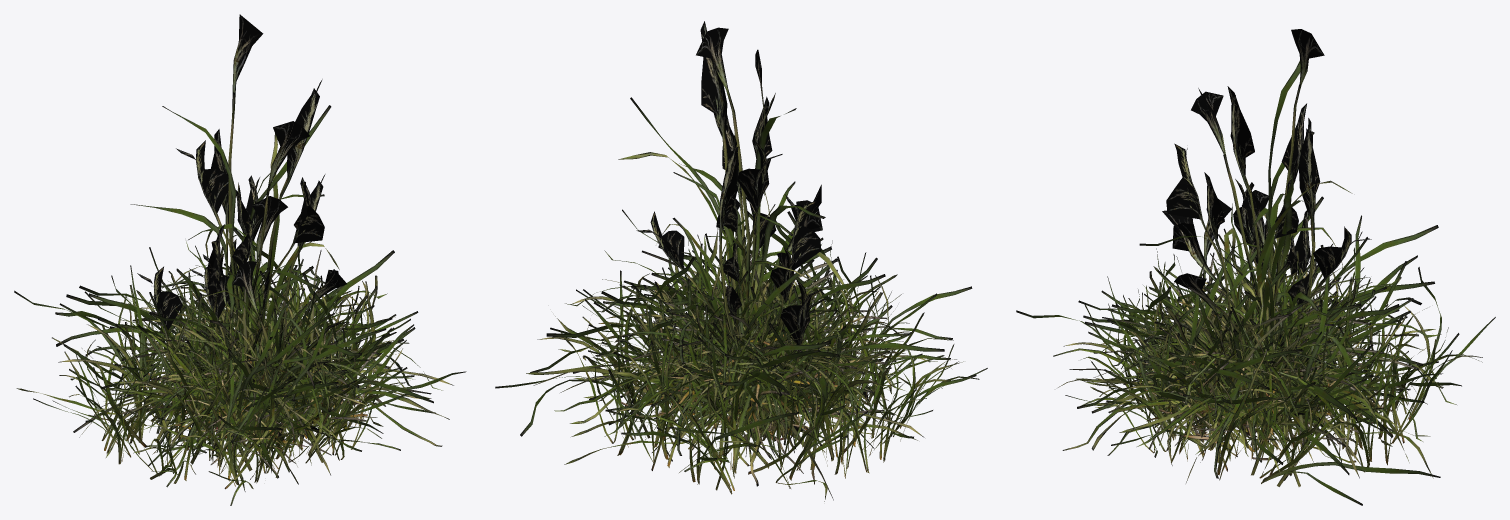
Rendered from grass.glb.
3 renders of one model, left to right at view 1: azimuth 30°, elevation 25°; view 2: azimuth 150°, elevation 25°; view 3: azimuth 270°, elevation 25°, orthographic. The views are drawn at different scales.
Parts seen in each view (by area): view 1: grass_medium_01_large_a_LOD0, grass_medium_01_large_c_LOD0, grass_medium_01_large_b_LOD0, grass_medium_01_mid_a_LOD0, grass_medium_01_tall_b_LOD0, grass_medium_01_tall_a_LOD0, grass_medium_01_tall_c_LOD0, grass_medium_01_mid_c_LOD0, grass_medium_01_mid_b_LOD0, grass_medium_01_small_a_LOD0, grass_medium_01_small_b_LOD0; view 2: grass_medium_01_large_a_LOD0, grass_medium_01_large_b_LOD0, grass_medium_01_large_c_LOD0, grass_medium_01_tall_a_LOD0, grass_medium_01_mid_a_LOD0, grass_medium_01_tall_b_LOD0, grass_medium_01_tall_c_LOD0, grass_medium_01_mid_b_LOD0, grass_medium_01_mid_c_LOD0, grass_medium_01_small_a_LOD0; view 3: grass_medium_01_large_a_LOD0, grass_medium_01_large_c_LOD0, grass_medium_01_large_b_LOD0, grass_medium_01_mid_a_LOD0, grass_medium_01_tall_b_LOD0, grass_medium_01_tall_a_LOD0, grass_medium_01_tall_c_LOD0, grass_medium_01_mid_c_LOD0, grass_medium_01_mid_b_LOD0, grass_medium_01_small_b_LOD0, grass_medium_01_small_a_LOD0.
Part boxes in pixels (x1,y1,x2,y2): grass_medium_01_large_a_LOD0: [14, 228, 415, 505]; grass_medium_01_large_c_LOD0: [89, 255, 466, 478]; grass_medium_01_large_b_LOD0: [56, 235, 453, 475]; grass_medium_01_mid_a_LOD0: [73, 174, 431, 468]; grass_medium_01_tall_b_LOD0: [171, 79, 339, 425]; grass_medium_01_tall_a_LOD0: [130, 14, 331, 343]; grass_medium_01_tall_c_LOD0: [137, 129, 345, 432]; grass_medium_01_mid_c_LOD0: [147, 268, 390, 472]; grass_medium_01_mid_b_LOD0: [89, 216, 335, 484]; grass_medium_01_small_a_LOD0: [139, 273, 357, 491]; grass_medium_01_small_b_LOD0: [140, 307, 377, 472]; grass_medium_01_large_a_LOD0: [495, 209, 987, 501]; grass_medium_01_large_b_LOD0: [526, 204, 929, 461]; grass_medium_01_large_c_LOD0: [530, 211, 952, 473]; grass_medium_01_tall_a_LOD0: [628, 27, 825, 388]; grass_medium_01_mid_a_LOD0: [573, 115, 880, 500]; grass_medium_01_tall_b_LOD0: [618, 21, 854, 343]; grass_medium_01_tall_c_LOD0: [668, 134, 837, 440]; grass_medium_01_mid_b_LOD0: [610, 188, 892, 486]; grass_medium_01_mid_c_LOD0: [589, 215, 888, 435]; grass_medium_01_small_a_LOD0: [619, 231, 900, 457]; grass_medium_01_large_a_LOD0: [1016, 196, 1495, 505]; grass_medium_01_large_c_LOD0: [1069, 228, 1442, 474]; grass_medium_01_large_b_LOD0: [1058, 214, 1456, 482]; grass_medium_01_mid_a_LOD0: [1094, 172, 1418, 449]; grass_medium_01_tall_b_LOD0: [1158, 86, 1352, 441]; grass_medium_01_tall_a_LOD0: [1139, 29, 1371, 406]; grass_medium_01_tall_c_LOD0: [1162, 118, 1347, 413]; grass_medium_01_mid_c_LOD0: [1107, 203, 1404, 462]; grass_medium_01_mid_b_LOD0: [1108, 216, 1402, 480]; grass_medium_01_small_b_LOD0: [1118, 277, 1393, 460]; grass_medium_01_small_a_LOD0: [1139, 257, 1374, 442].
Bounding box in the file's own units: 0.317 × 0.3225 × 0.3266.
Materials: 1 (1 with a texture image).
